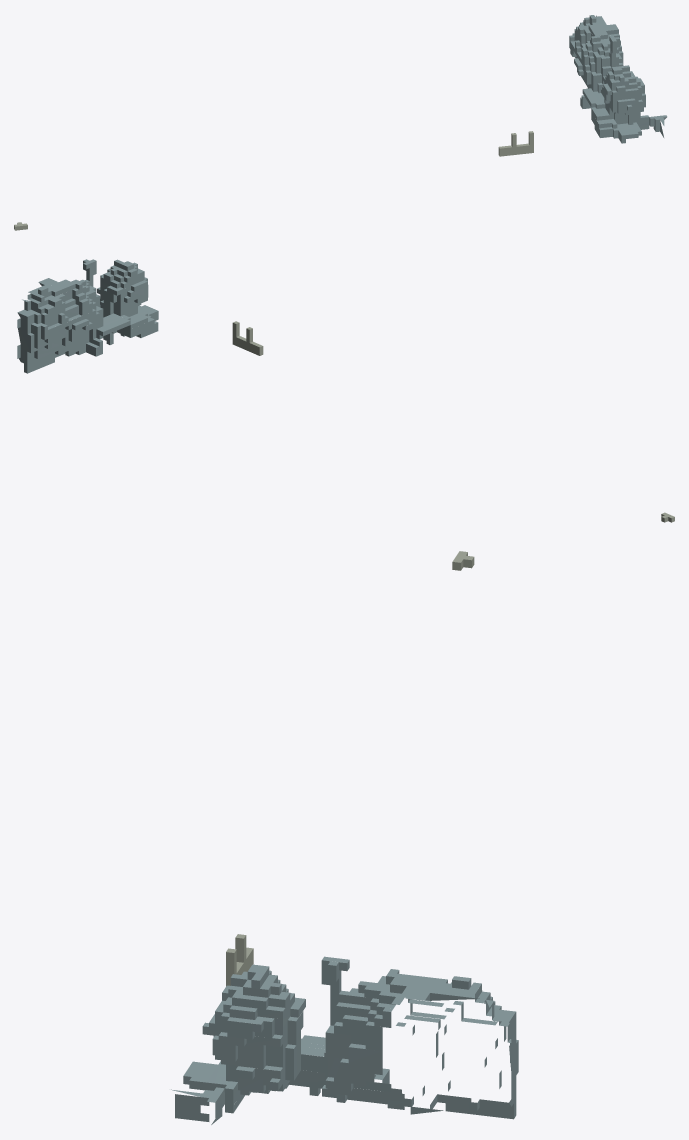
The picture shows the model from 3 angles, top to bottom: view 1: azimuth 30°, elevation 25°; view 2: azimuth 150°, elevation 25°; view 3: azimuth 270°, elevation 25°; orthographic projection. The views are drawn at different scales.
Parts seen in each view (by area): view 1: measured-industrial; view 2: measured-industrial; view 3: measured-industrial.
Boxes of the visible parts, x1,y1,x2,y2 form: measured-industrial: [14, 15, 667, 230]; measured-industrial: [17, 259, 674, 522]; measured-industrial: [171, 551, 518, 1124].
Bounding box in the file's own units: 234 × 28.59 × 59.57.
